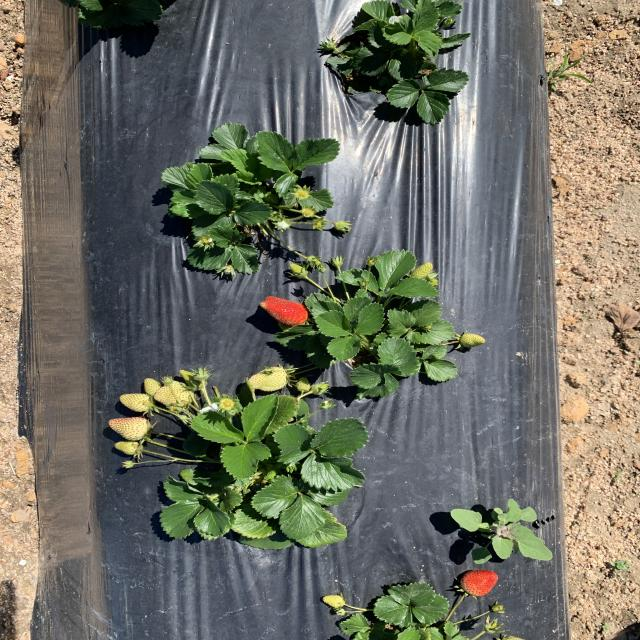unripe: (256, 294, 312, 326), (456, 570, 503, 596)
